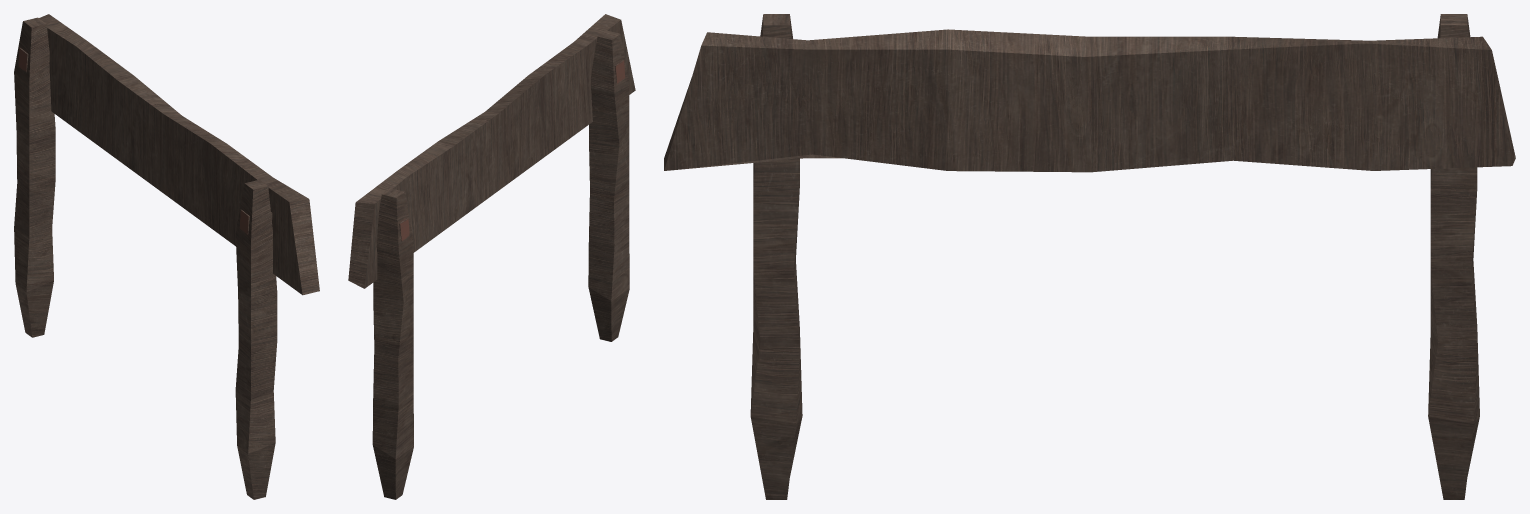
Rendered from sign.fbx.
3 views of the same model, side by side, from view 1: azimuth 30°, elevation 25°; view 2: azimuth 150°, elevation 25°; view 3: azimuth 270°, elevation 25° (orthographic). The views are drawn at different scales.
Visible parts, largest first — view 1: Cube.002; view 2: Cube.002; view 3: Cube.002.
Boxes of the visible parts, left/top/right/bottom form: Cube.002: left=14, top=14, right=319, bottom=499; Cube.002: left=348, top=14, right=635, bottom=499; Cube.002: left=664, top=14, right=1515, bottom=499.
Size of the model in its own units: 45.97 by 317 by 514.
1 material, 1 textured.
